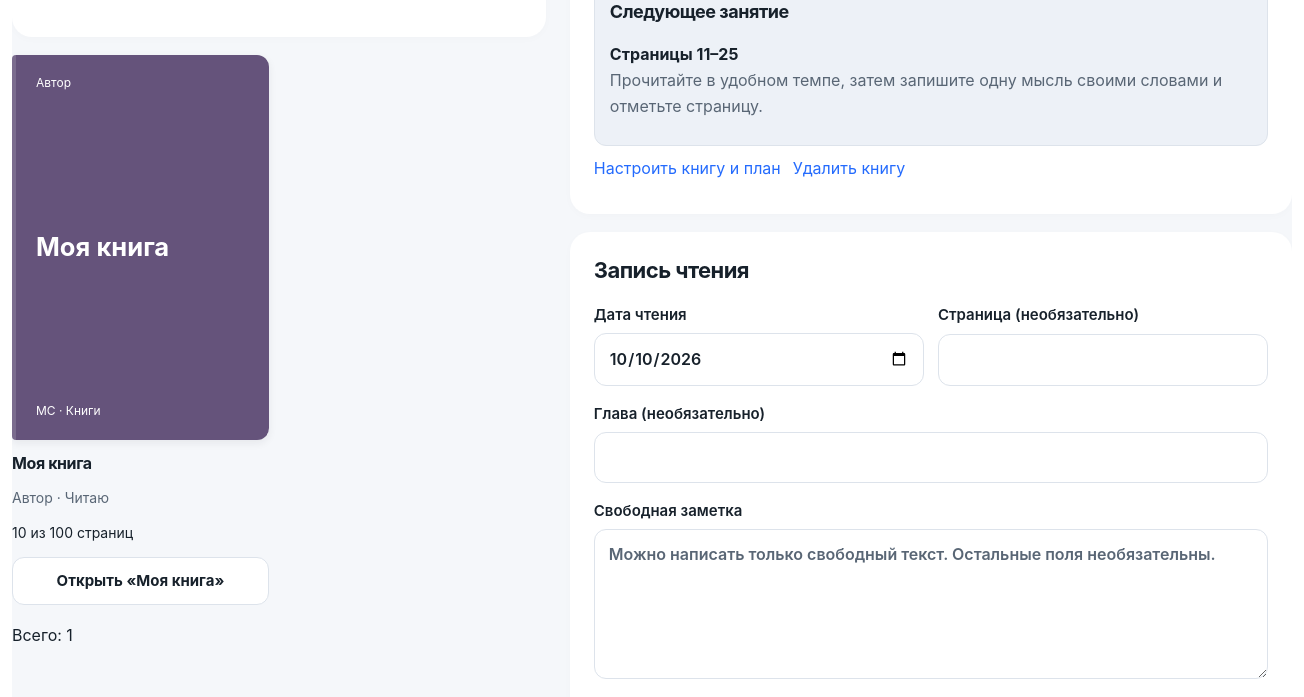
Scenario: saving a reading page updates the bookmark and the next reading step
This screenshot has width=1304, height=697.
(page scrolled)
Check: the text "Страницы 11–25" is shown, box [610,44,738,64]
Type "30" into the number field labelled "Страница (необязательно)" at (1103,360), box [938,334,1268,386]
(page scrolled)
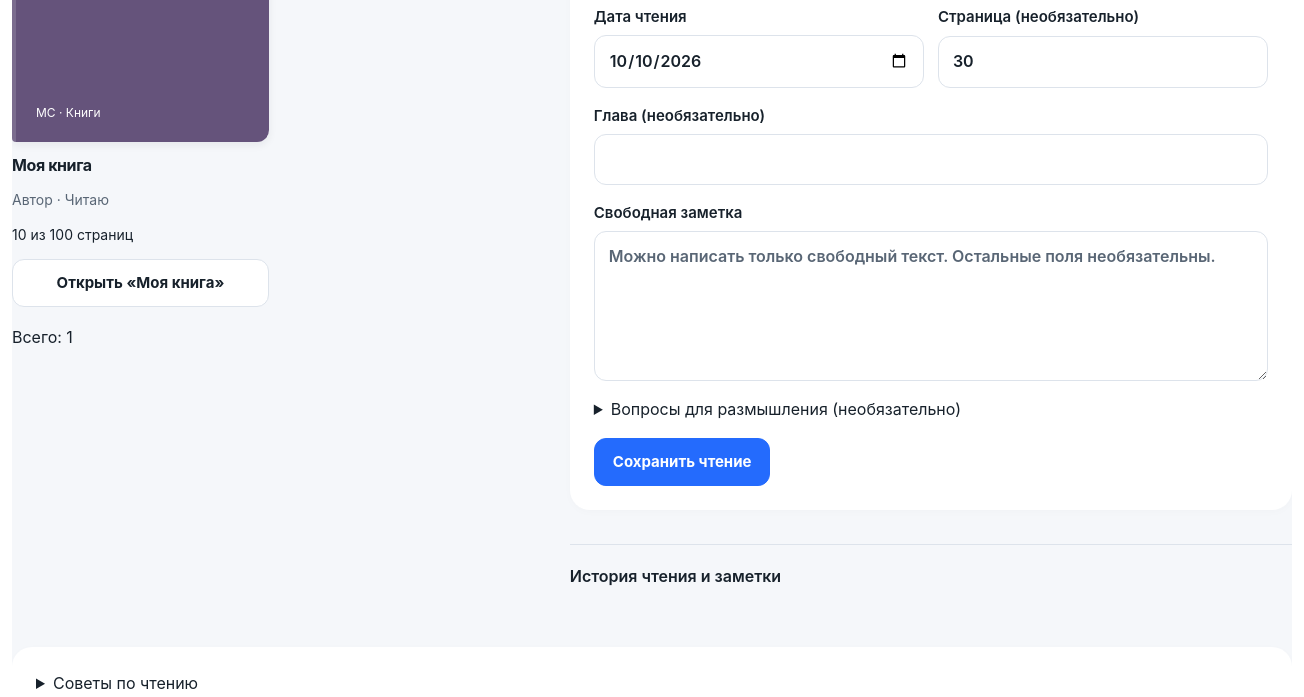
Click the button "Сохранить чтение" at (682,462), box [594,438,770,486]
(page scrolled)
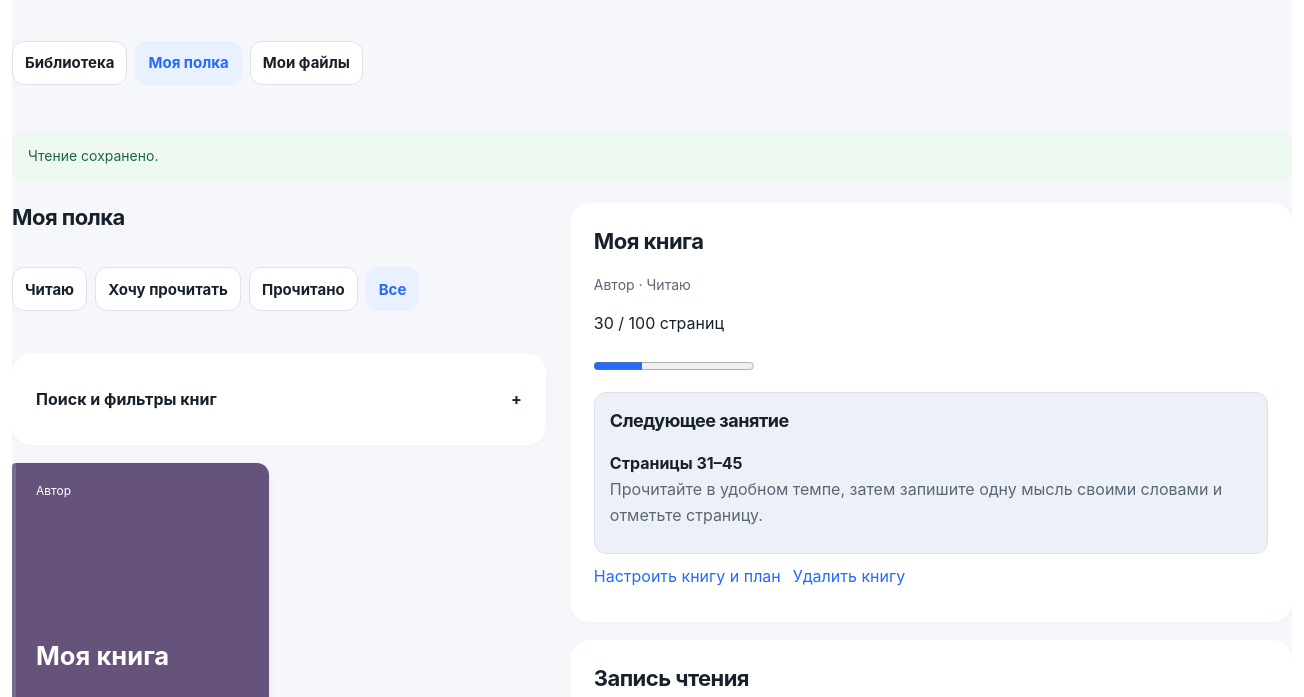
Check: the text "Страницы 31–45" is shown, box [610,453,743,473]
Check: the text "30 / 100 страниц" is shown, box [594,314,724,334]
